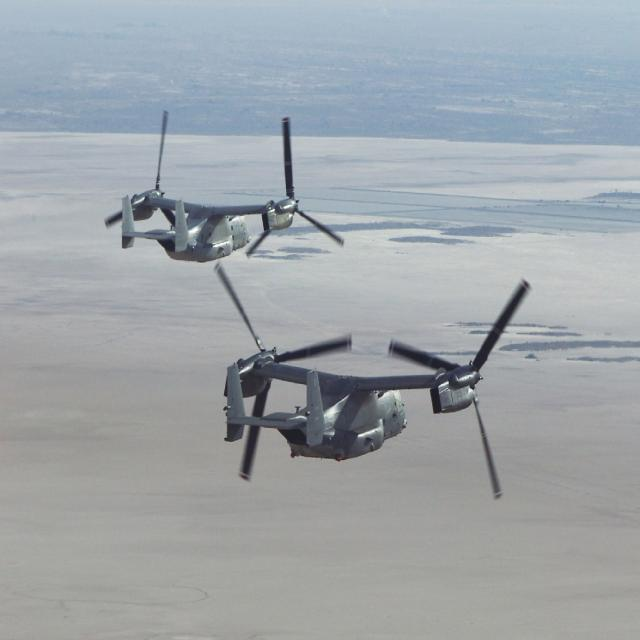MIL_Plane: (213, 258, 533, 502), (103, 108, 345, 263)
